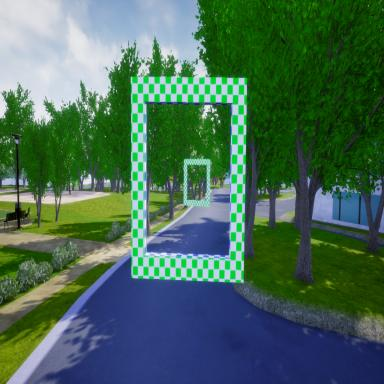gate: (130, 74, 248, 288), (182, 158, 211, 210)
